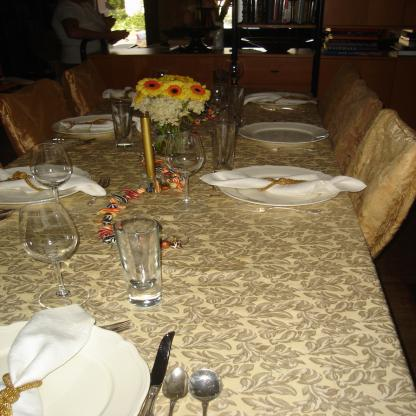vase: (152, 118, 197, 158)
